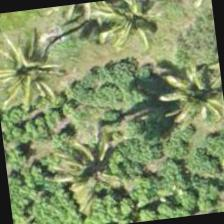Kelapa_Sawit: (42, 118, 142, 218), (145, 47, 223, 147), (0, 22, 78, 122), (84, 0, 182, 68)
